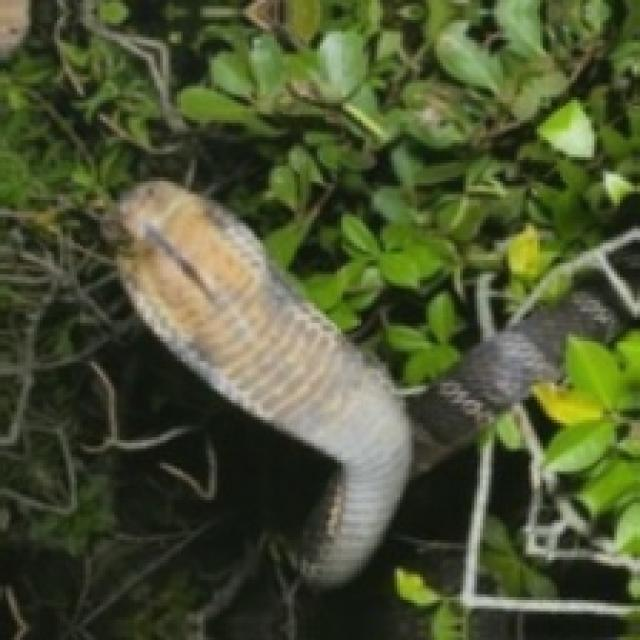king cobra: (106, 180, 617, 586)
